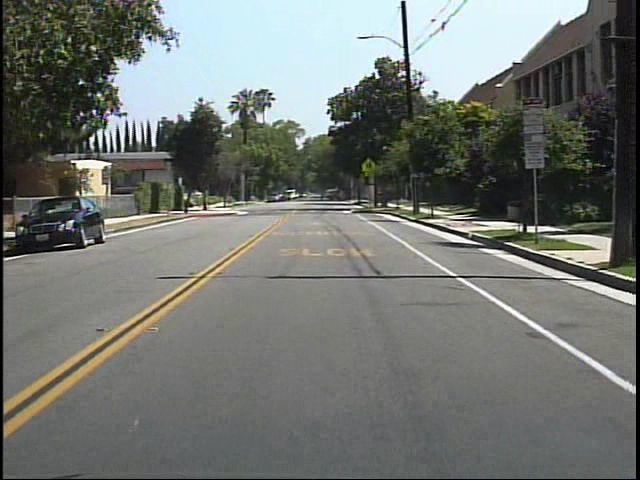person: (316, 188, 331, 206)
